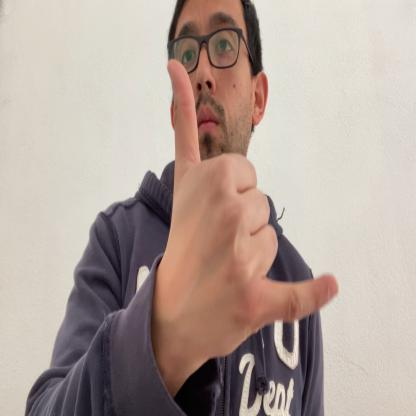Y: (159, 60, 339, 376)
